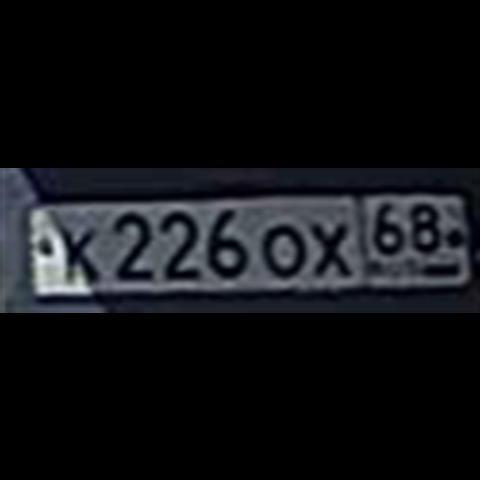license-plateSW: (24, 189, 470, 296)
